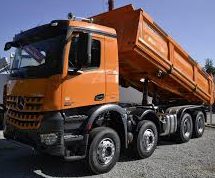truck: (2, 5, 215, 173)
